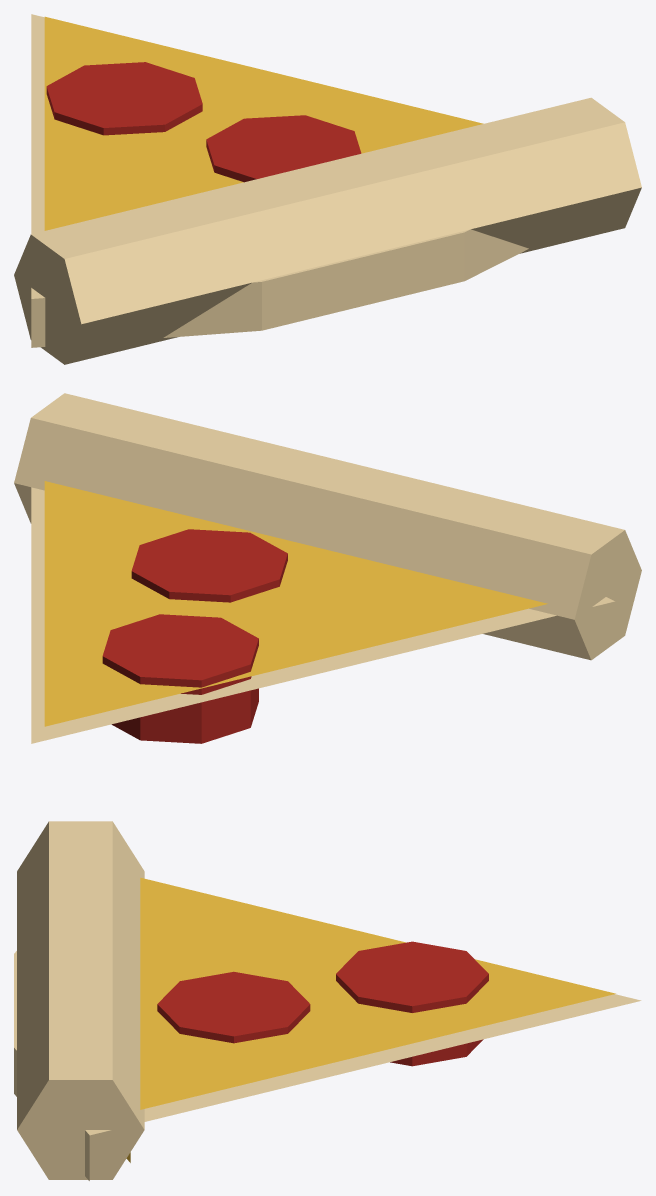
The model's file is pizza_slice.glb.
3 views of the same model, one above another, from view 1: azimuth 30°, elevation 25°; view 2: azimuth 150°, elevation 25°; view 3: azimuth 270°, elevation 25° (orthographic). The views are drawn at different scales.
Visible parts, largest first — view 1: crust_dough, cheese_pizza_cheese, pepperoni_pepperoni (×2); view 2: crust_dough, cheese_pizza_cheese, pepperoni_pepperoni (×2); view 3: crust_dough, cheese_pizza_cheese, pepperoni_pepperoni (×2).
Boxes of the visible parts, box(x1,y1,x2,y2) form: crust_dough: box(14, 14, 641, 364); cheese_pizza_cheese: box(44, 16, 483, 230); pepperoni_pepperoni (×2): box(46, 62, 361, 182); crust_dough: box(14, 393, 641, 743); cheese_pizza_cheese: box(44, 481, 547, 726); pepperoni_pepperoni (×2): box(102, 529, 287, 743); crust_dough: box(14, 821, 641, 1180); cheese_pizza_cheese: box(126, 877, 615, 1162); pepperoni_pepperoni (×2): box(157, 941, 488, 1066).
Size of the model in its own units: 0.25 by 0.0433 by 0.2462.
